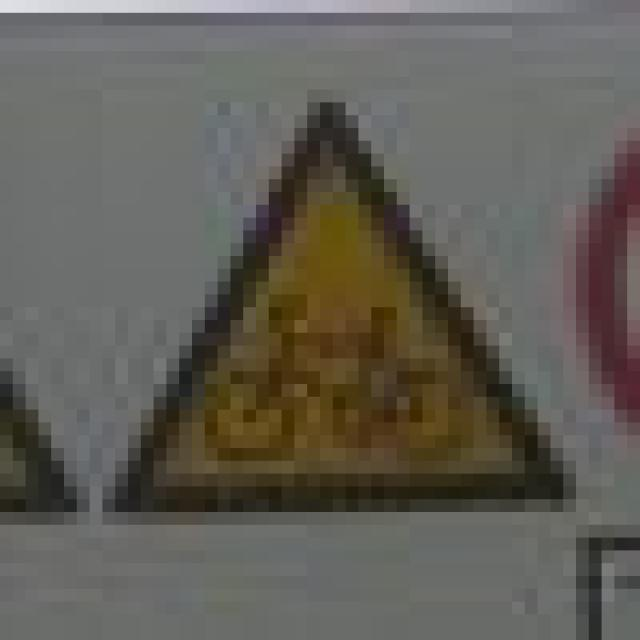CYCLE_CROSSING: (107, 101, 572, 538)
